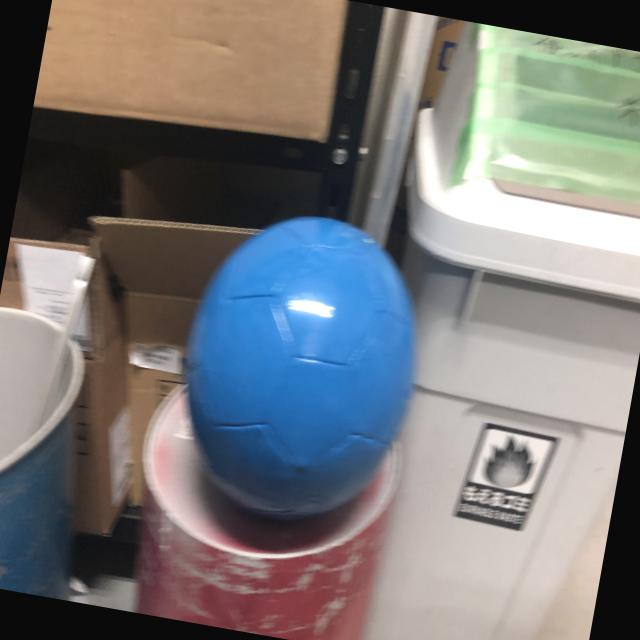blue_ball: (159, 197, 437, 542)
